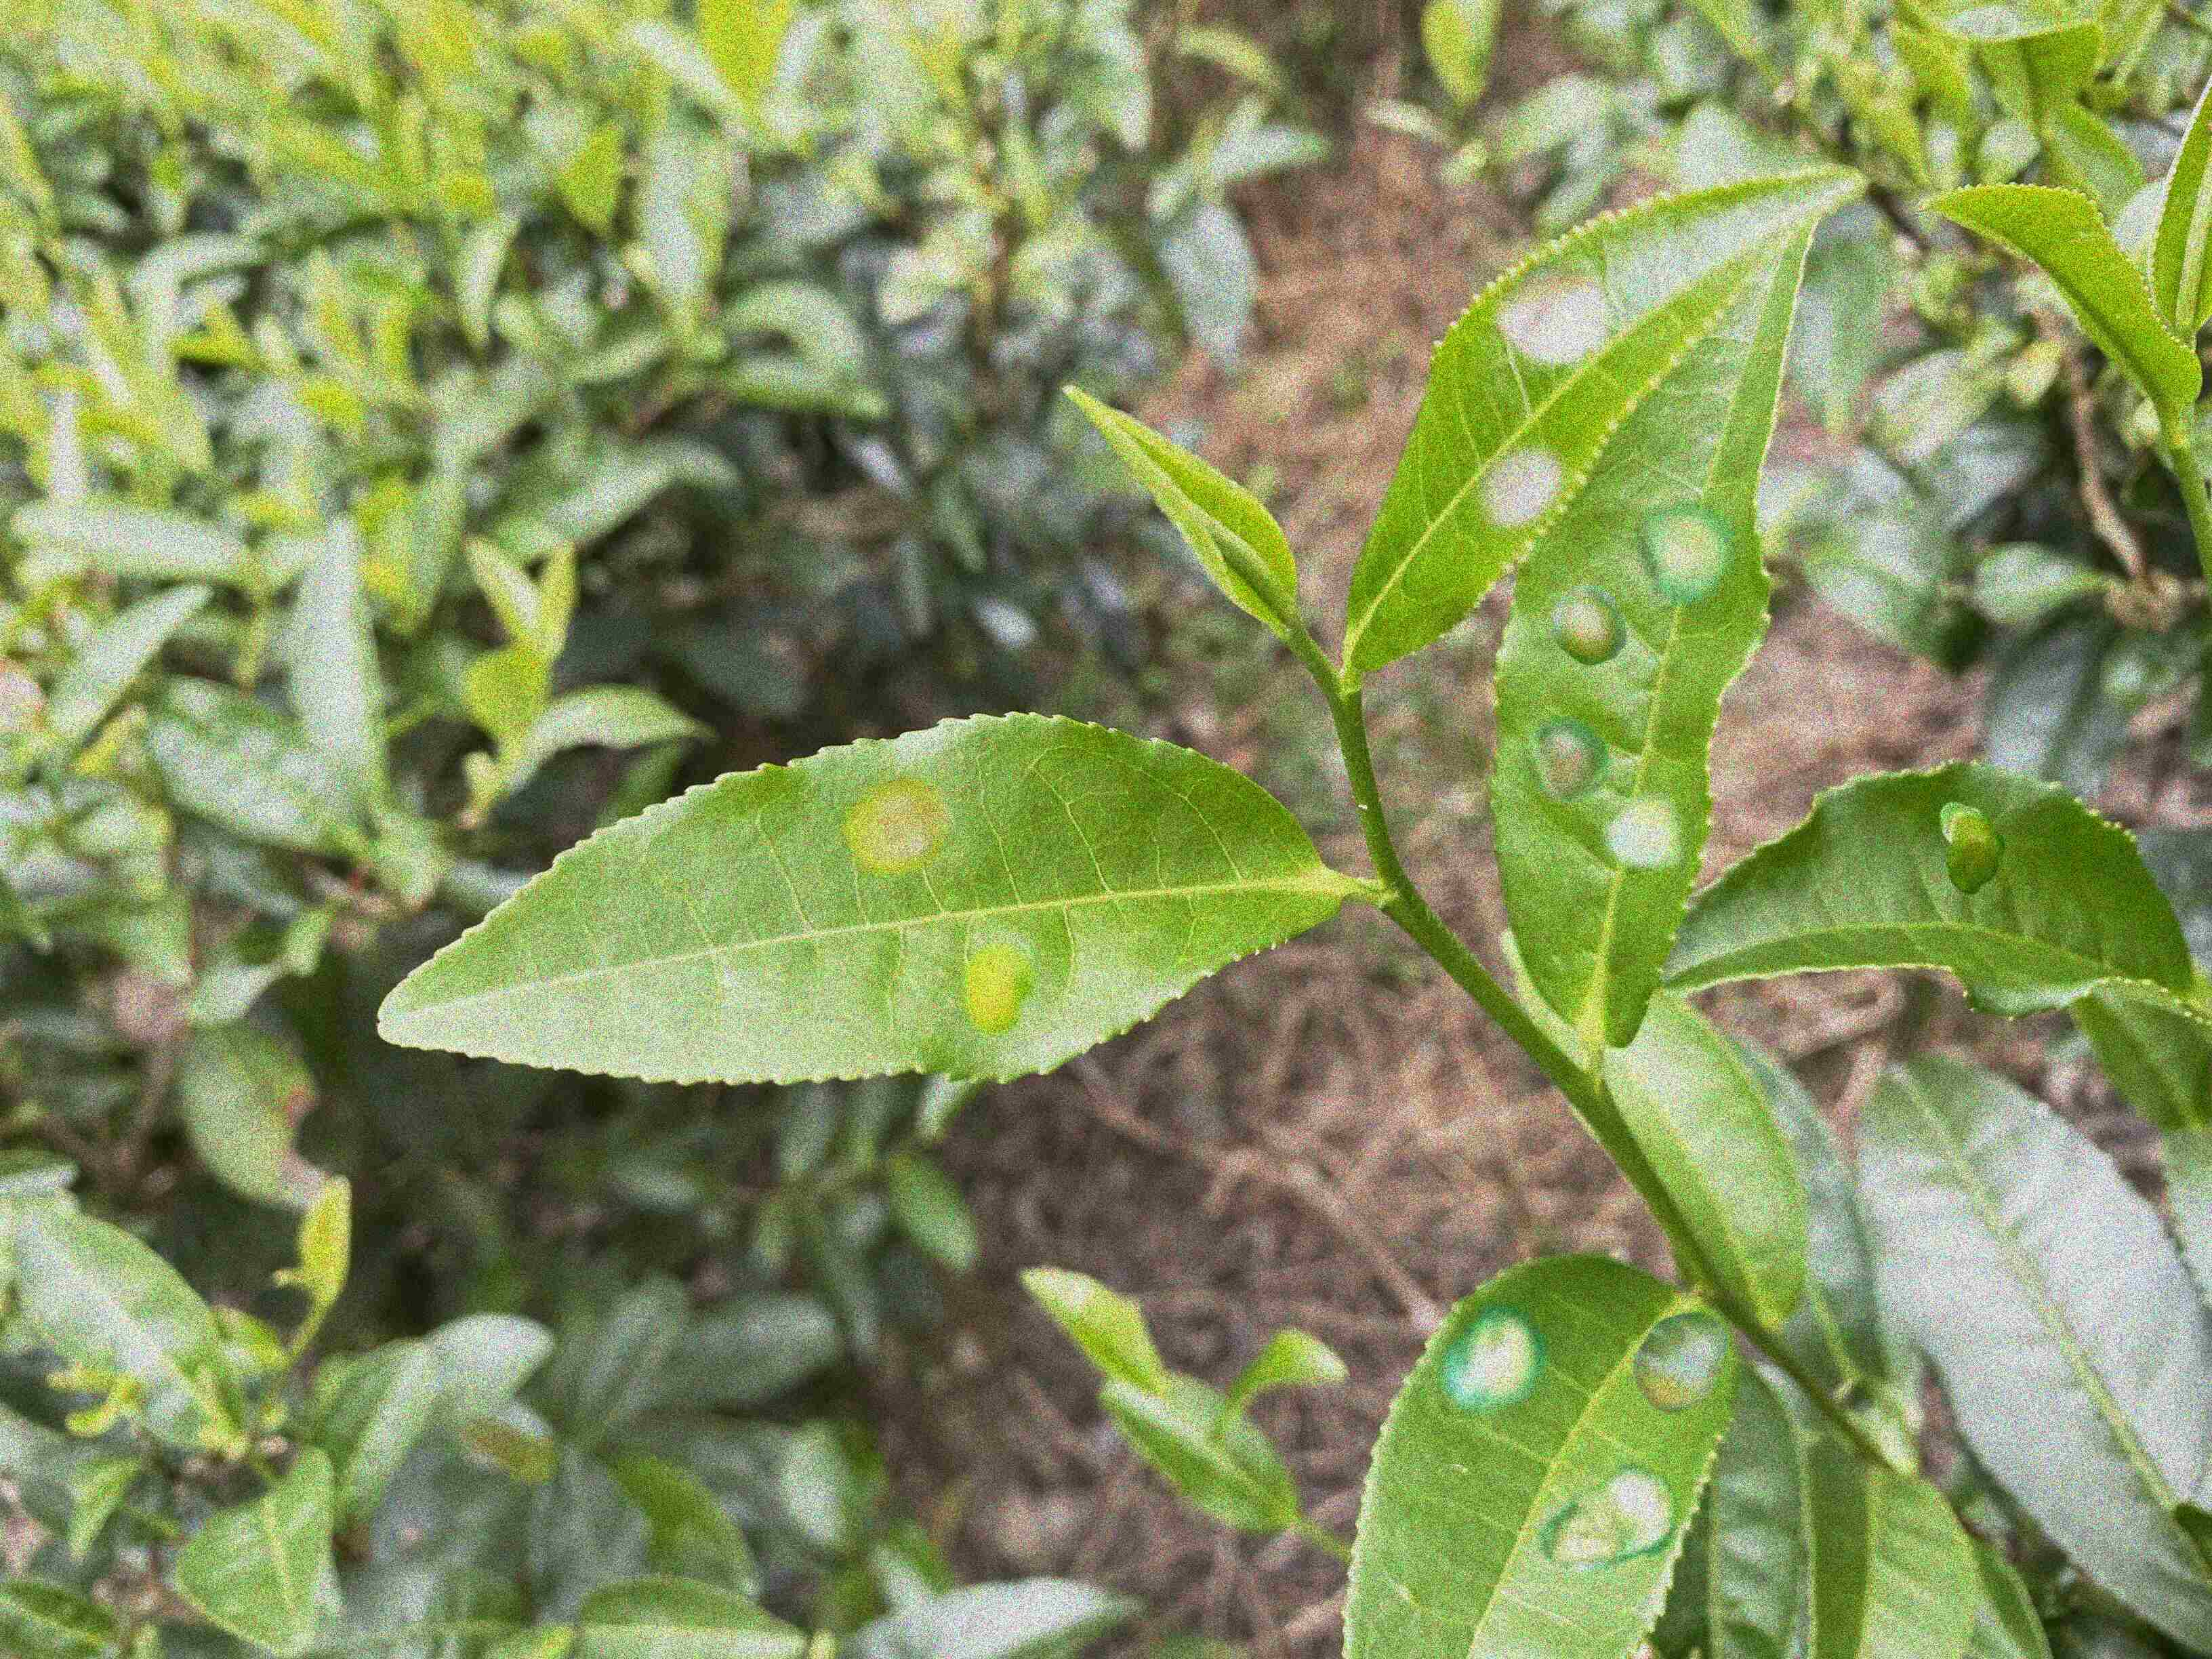chabing_high: (373, 706, 1336, 1091), (1484, 227, 1820, 1051), (1345, 167, 1871, 667), (1336, 1251, 1745, 1657)
chabing_low: (1658, 756, 2210, 1025)
